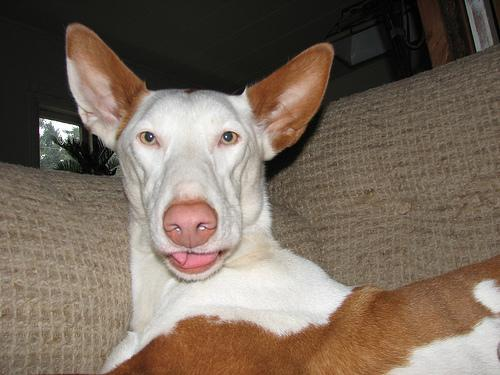Ibizan_hound: (64, 20, 498, 373)
